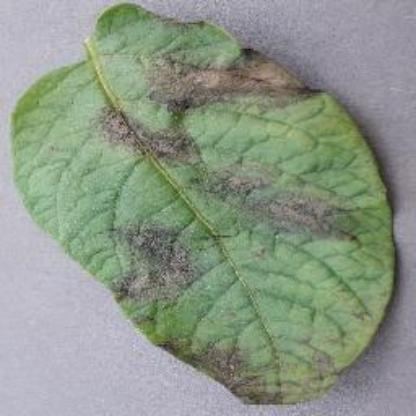Late-Blight: (7, 6, 397, 406)
